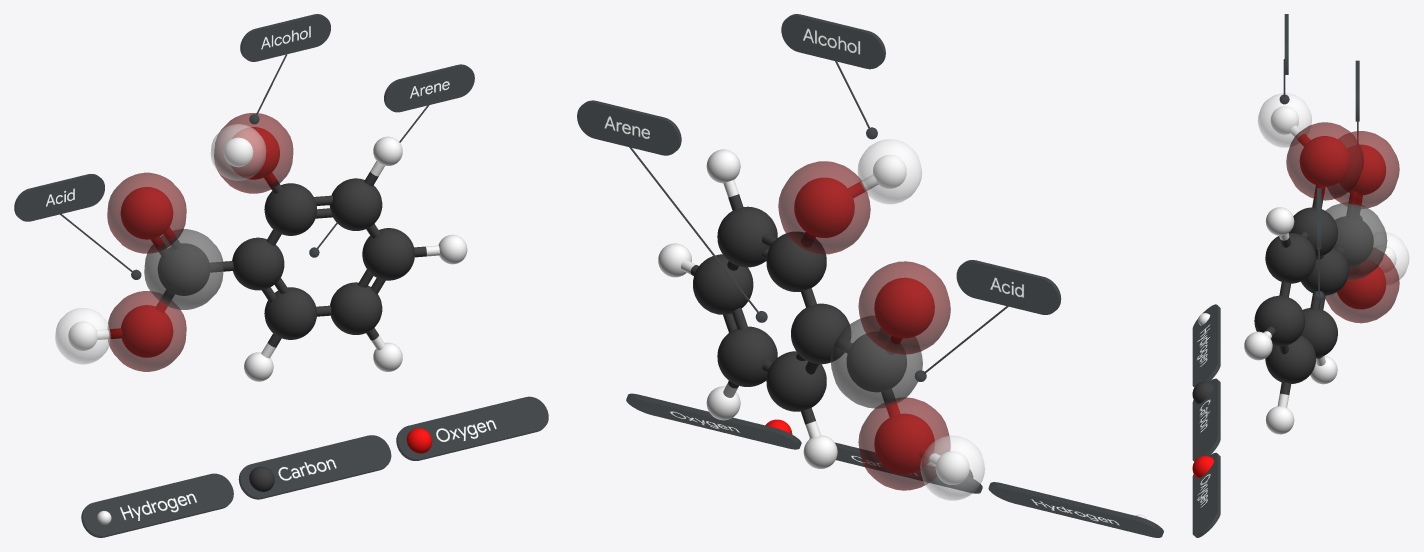
The model's file is dna.glb.
3 views of the same model, side by side, from view 1: azimuth 30°, elevation 25°; view 2: azimuth 150°, elevation 25°; view 3: azimuth 270°, elevation 25° (orthographic). The views are drawn at different scales.
Parts seen in each view (by area): view 1: SalicylicAcid, SalicylicAcid_HL, SalicylicAcid_Legend, SalicylicAcid_Label; view 2: SalicylicAcid, SalicylicAcid_HL, SalicylicAcid_Label, SalicylicAcid_Legend; view 3: SalicylicAcid, SalicylicAcid_HL, SalicylicAcid_Legend, SalicylicAcid_Label.
Part boxes in pixels (left/top/right/bottom): SalicylicAcid: left=68, top=127, right=467, bottom=524; SalicylicAcid_HL: left=55, top=113, right=293, bottom=371; SalicylicAcid_Legend: left=81, top=396, right=548, bottom=537; SalicylicAcid_Label: left=14, top=14, right=474, bottom=279; SalicylicAcid: left=658, top=149, right=1146, bottom=519; SalicylicAcid_HL: left=778, top=139, right=984, bottom=500; SalicylicAcid_Label: left=577, top=14, right=1061, bottom=381; SalicylicAcid_Legend: left=626, top=393, right=1163, bottom=537; SalicylicAcid: left=1192, top=106, right=1396, bottom=478; SalicylicAcid_HL: left=1257, top=93, right=1409, bottom=323; SalicylicAcid_Legend: left=1192, top=304, right=1220, bottom=537; SalicylicAcid_Label: left=1279, top=14, right=1362, bottom=300.
Size of the model in its own units: 0.6617 by 0.5802 by 0.2782.
4 materials, 4 textured.
